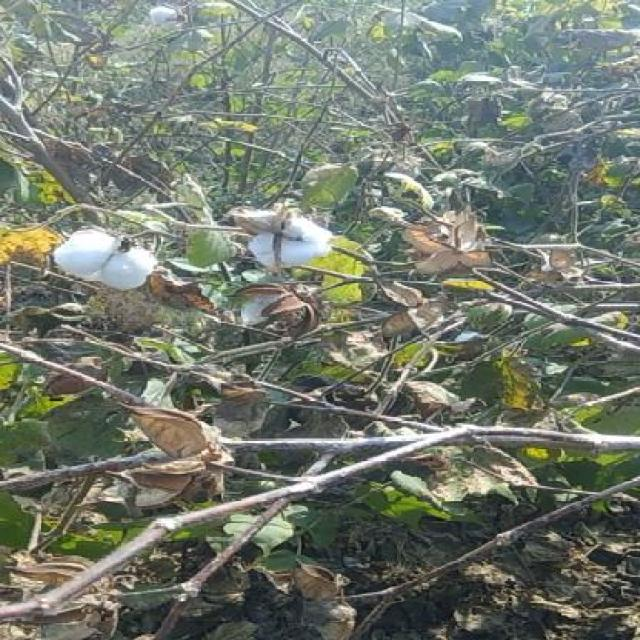cotton_ready: (42, 219, 166, 315), (216, 209, 347, 285)
